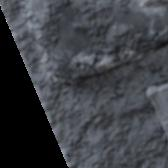brick: (147, 84, 167, 134)
broken_brick: (30, 0, 167, 86)
crack: (0, 1, 70, 167)
